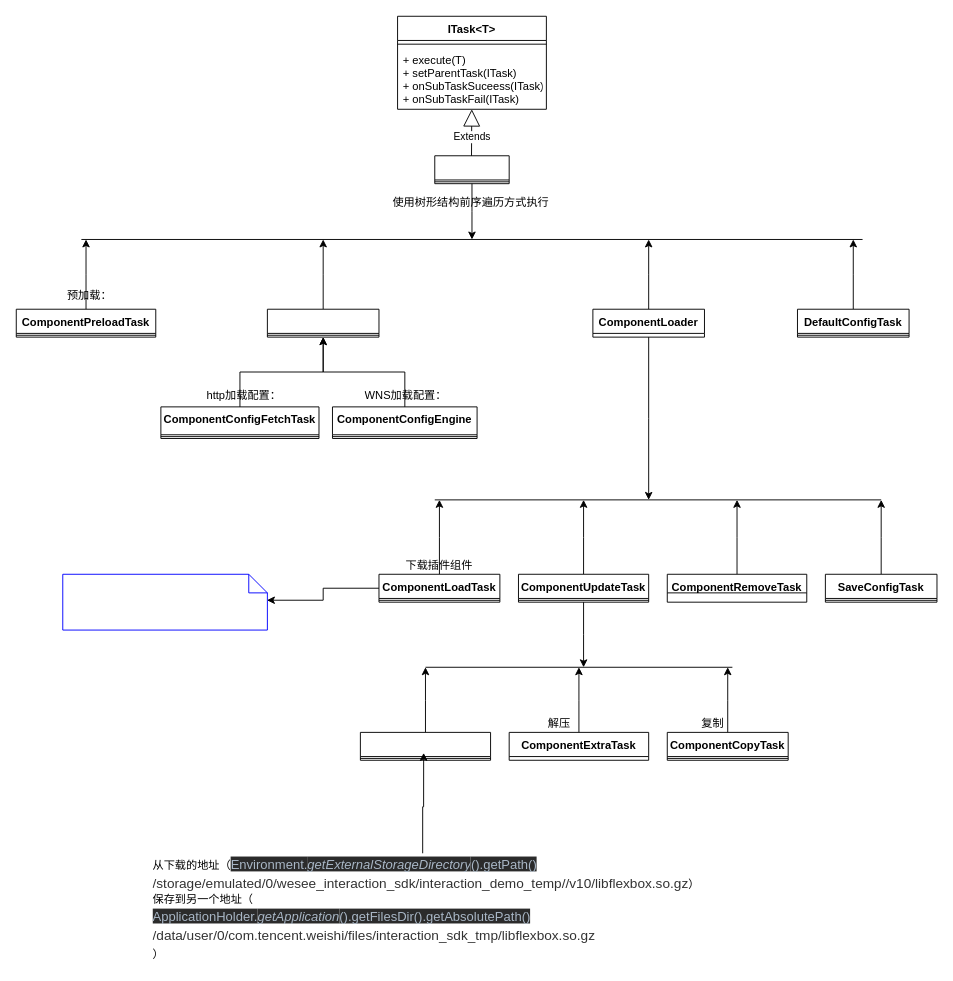
This 953x981 diagram has some shape labels left out. Each missing label, with the centre of its shape:
"1、组件的下载器是怎么实现的？" goes at [164,601].
"ComponentConfig" goes at [322,322].
"ComponentSaveTask" goes at [425,745].
"RootTask" goes at [471,169].
